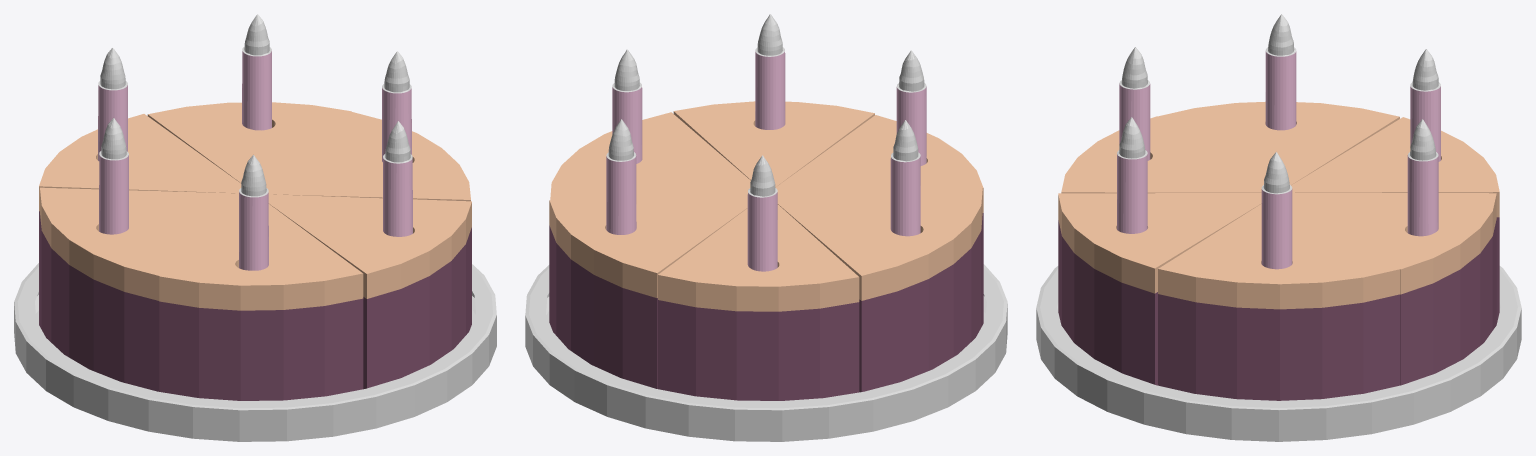
Rendered from WoodenCakeModel.fbx.
3 renders of one model, left to right at view 1: azimuth 30°, elevation 25°; view 2: azimuth 150°, elevation 25°; view 3: azimuth 270°, elevation 25°, orthographic.
Visible parts, largest first — view 1: WoodenCake; view 2: WoodenCake; view 3: WoodenCake.
Part boxes in pixels (x1,y1,x2,y2): WoodenCake: [14, 14, 496, 441]; WoodenCake: [525, 14, 1007, 441]; WoodenCake: [1036, 14, 1521, 441].
Bounding box in the file's own units: 15 × 8.8 × 15.
